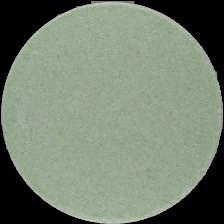0781-1695: (0, 0, 224, 224)
